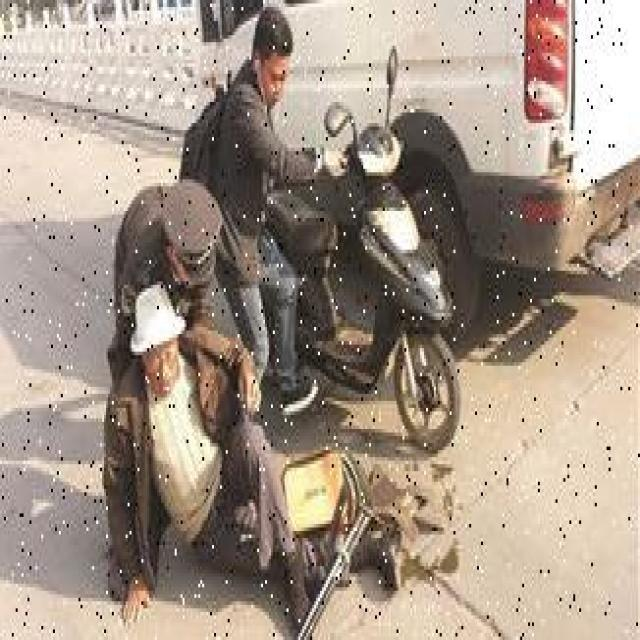fall: (116, 298, 389, 602)
